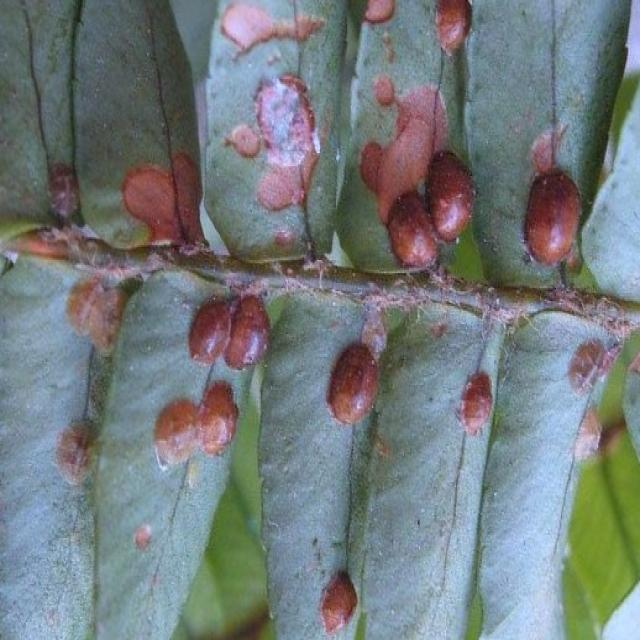Black Scale: (388, 151, 473, 267), (153, 382, 237, 462), (189, 294, 269, 373), (526, 169, 579, 263), (329, 342, 378, 423), (320, 571, 357, 632), (463, 372, 491, 433)
